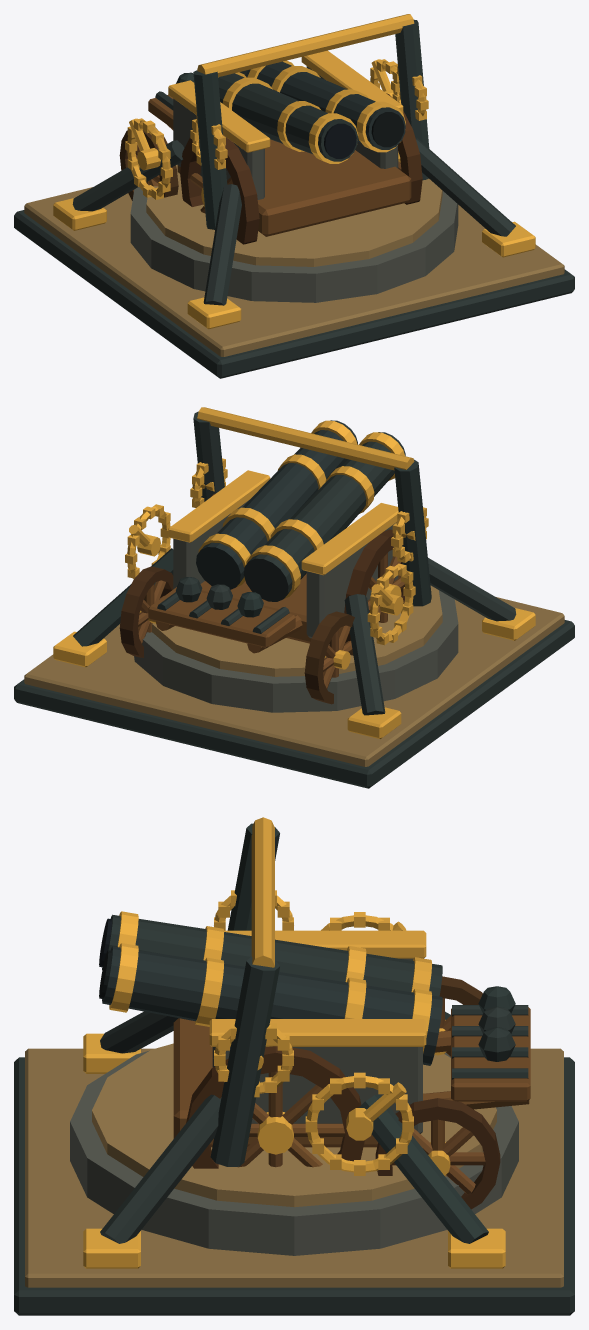
The picture shows the model from 3 angles, top to bottom: view 1: azimuth 30°, elevation 25°; view 2: azimuth 150°, elevation 25°; view 3: azimuth 270°, elevation 25°; orthographic projection. The views are drawn at different scales.
Parts seen in each view (by area): view 1: cannon_level8_structure, cannon_level8_metal; view 2: cannon_level8_structure, cannon_level8_metal; view 3: cannon_level8_structure, cannon_level8_metal.
Part boxes in pixels (x1=…): cannon_level8_structure: x1=14, y1=19, x2=574, y2=378; cannon_level8_metal: x1=53, y1=14, x2=535, y2=329; cannon_level8_structure: x1=14, y1=411, x2=574, y2=788; cannon_level8_metal: x1=53, y1=407, x2=535, y2=739; cannon_level8_structure: x1=14, y1=823, x2=574, y2=1315; cannon_level8_metal: x1=83, y1=817, x2=505, y2=1268.
Bounding box in the file's own units: 3.6 × 2.22 × 3.6.
